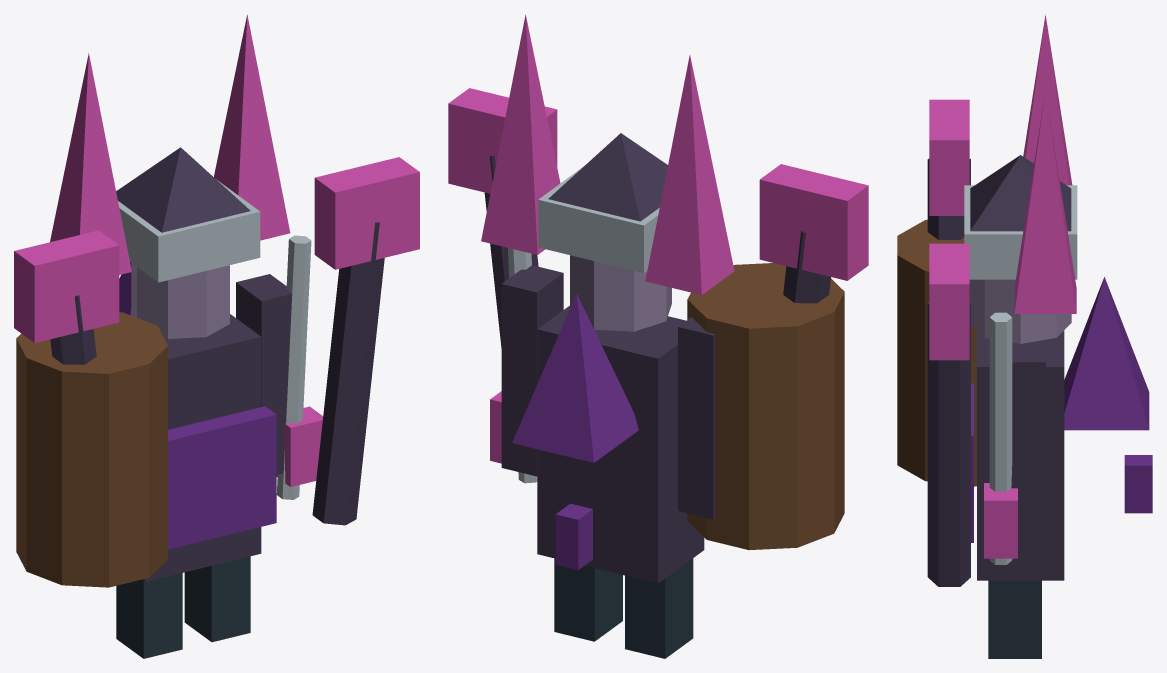
The model's file is raider.obj.
The picture shows the model from 3 angles, left to right: view 1: azimuth 30°, elevation 25°; view 2: azimuth 150°, elevation 25°; view 3: azimuth 270°, elevation 25°; orthographic projection. The views are drawn at different scales.
Visible parts, largest first — view 1: infantry; view 2: infantry; view 3: infantry.
Boxes of the visible parts, x1,y1,x2,y2 form: infantry: (14, 15, 419, 658); infantry: (448, 15, 868, 658); infantry: (897, 14, 1152, 658).
Size of the model in its own units: 1.41 by 2.07 by 0.8225.
